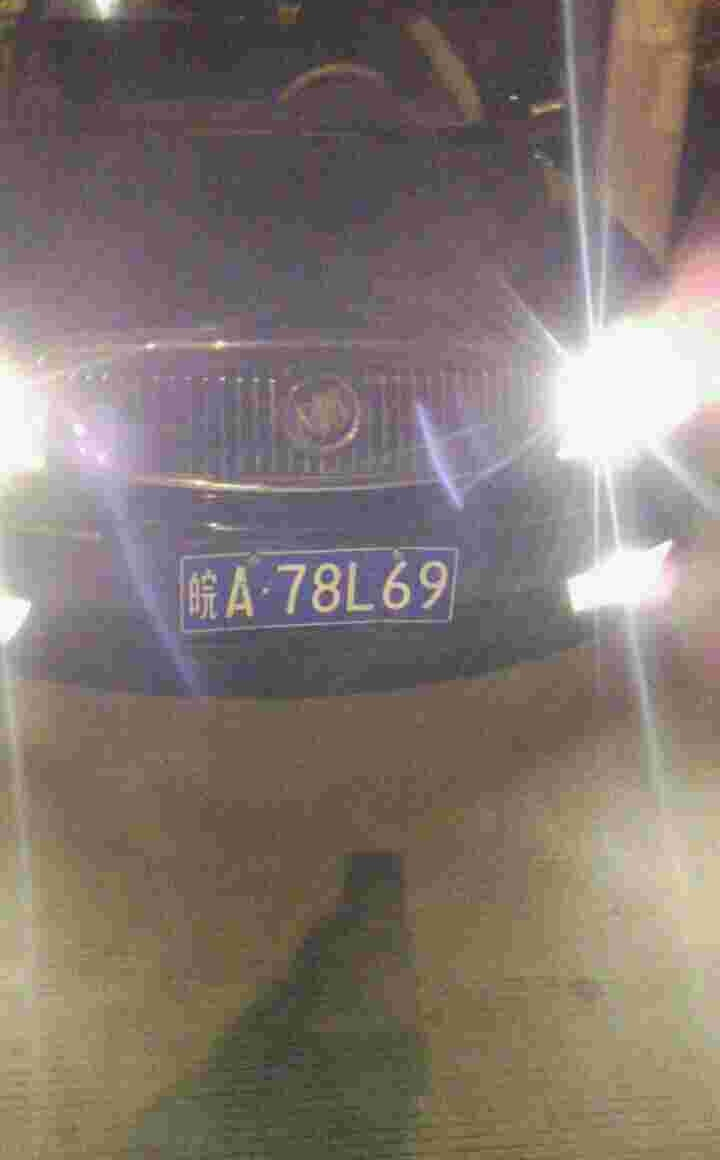license_plate: (175, 549, 443, 626)
